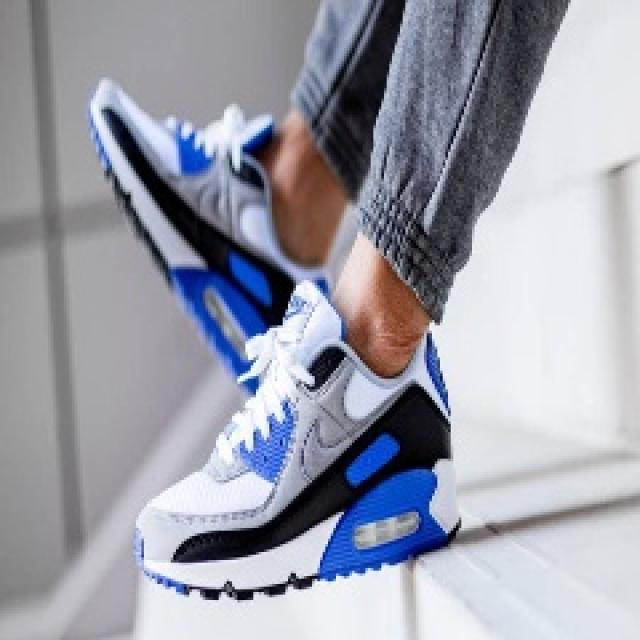shoes: (115, 296, 498, 604), (76, 72, 339, 403)
